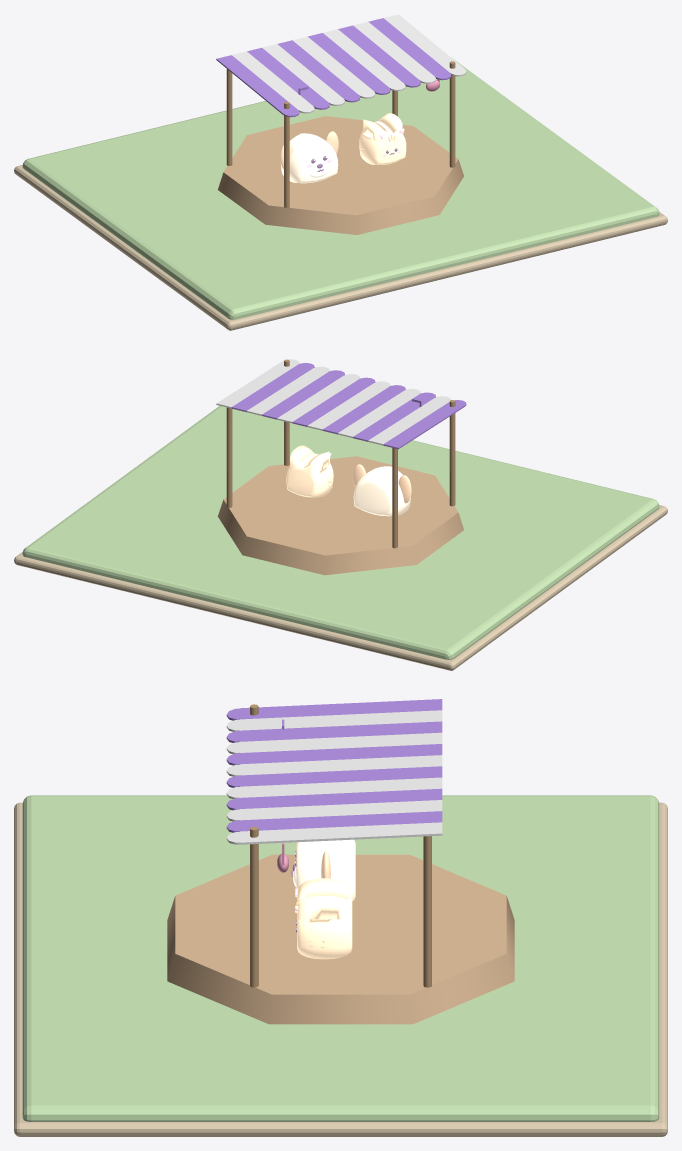
The model's file is building_bandstand_L04.glb.
3 views of the same model, one above another, from view 1: azimuth 30°, elevation 25°; view 2: azimuth 150°, elevation 25°; view 3: azimuth 270°, elevation 25° (orthographic). The views are drawn at different scales.
Visible parts, largest first — view 1: bandstand_L4, object 17, object 7; view 2: bandstand_L4, object 17, object 7; view 3: bandstand_L4, object 17, object 7.
Boxes of the visible parts, x1,y1,x2,y2 form: bandstand_L4: (14,14,667,330); object 17: (359,113,406,164); object 7: (280,133,338,183); bandstand_L4: (14,359,667,670); object 17: (286,445,333,497); object 7: (353,466,410,516); bandstand_L4: (14,699,667,1136); object 17: (297,878,352,959); object 7: (296,839,355,901).
Bounding box in the file's own units: 26.61 × 8.08 × 22.6.
